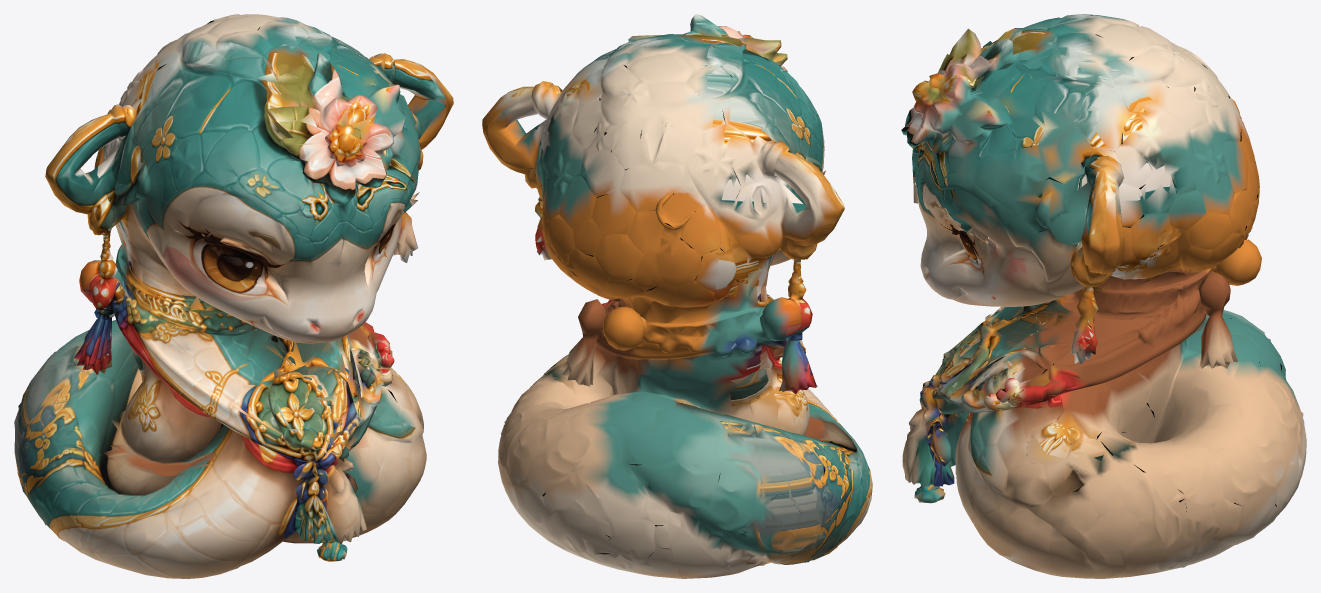
The model's file is snake_roblox.glb.
The picture shows the model from 3 angles, left to right: view 1: azimuth 30°, elevation 25°; view 2: azimuth 150°, elevation 25°; view 3: azimuth 270°, elevation 25°; orthographic projection. The views are drawn at different scales.
Parts seen in each view (by area): view 1: MoonSnake_Part003, MoonSnake_Part002, MoonSnake_Eyes; view 2: MoonSnake_Part002, MoonSnake_Part003; view 3: MoonSnake_Part002, MoonSnake_Part003, MoonSnake_Eyes.
Boxes of the visible parts, left/top/right/bottom form: MoonSnake_Part003: left=14, top=20, right=446, bottom=578; MoonSnake_Part002: left=18, top=14, right=453, bottom=559; MoonSnake_Eyes: left=296, top=233, right=373, bottom=317; MoonSnake_Part002: left=482, top=15, right=867, bottom=578; MoonSnake_Part003: left=507, top=14, right=872, bottom=577; MoonSnake_Part002: left=904, top=14, right=1306, bottom=578; MoonSnake_Part003: left=901, top=14, right=1204, bottom=574; MoonSnake_Eyes: left=913, top=177, right=942, bottom=269.
Size of the model in its own units: 2.22 by 2.65 by 1.93.
Materials: 2 (2 with a texture image).
